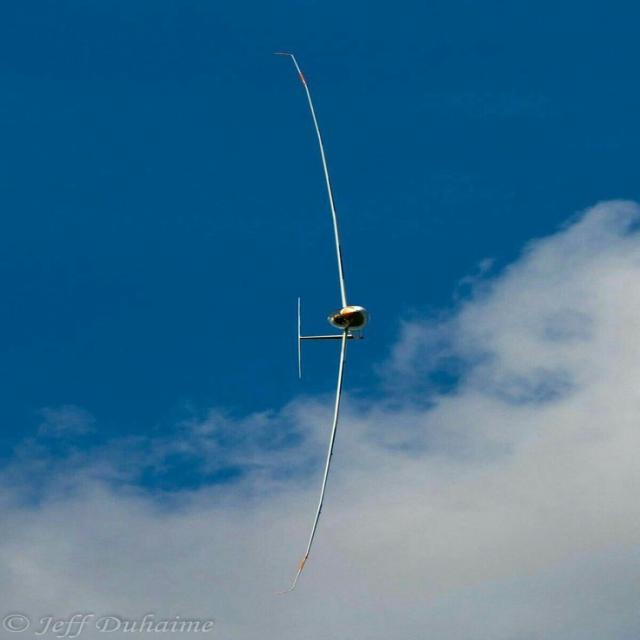iha: (299, 49, 337, 597)
